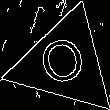O_S: (37, 33, 91, 93)
